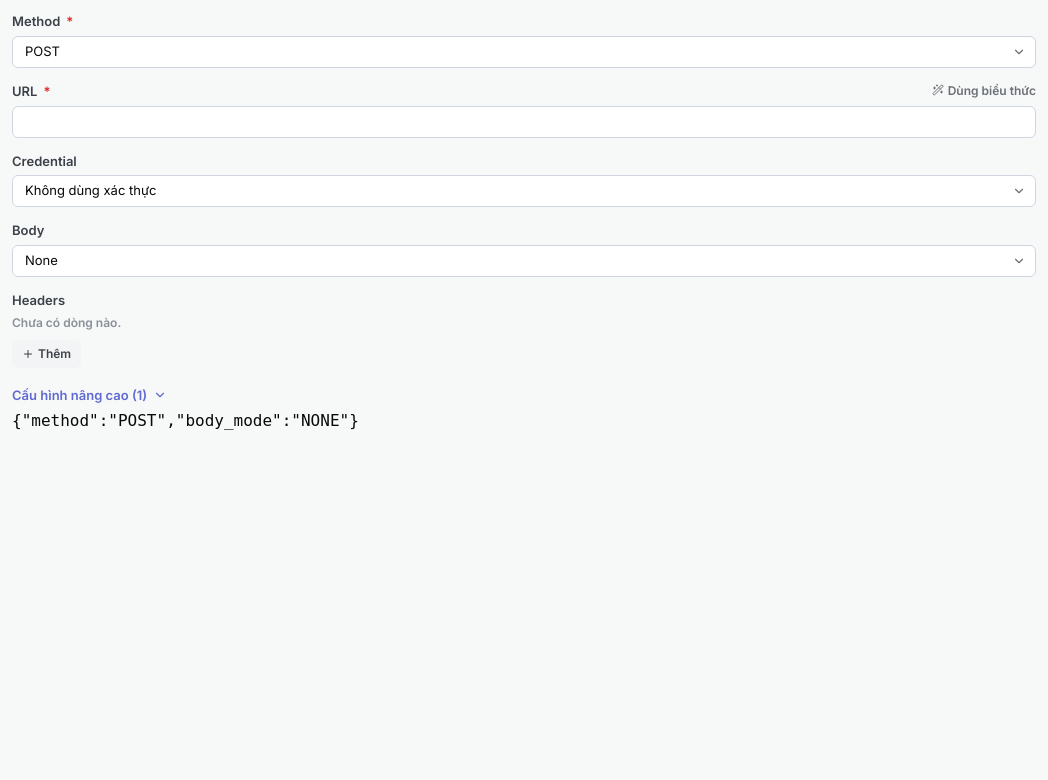
Test: conditional fields › shows it once the field it depends on changes
Select "JSON" in the dropdown labelled "Body". click: (524, 261)
box: [12, 245, 1036, 277]
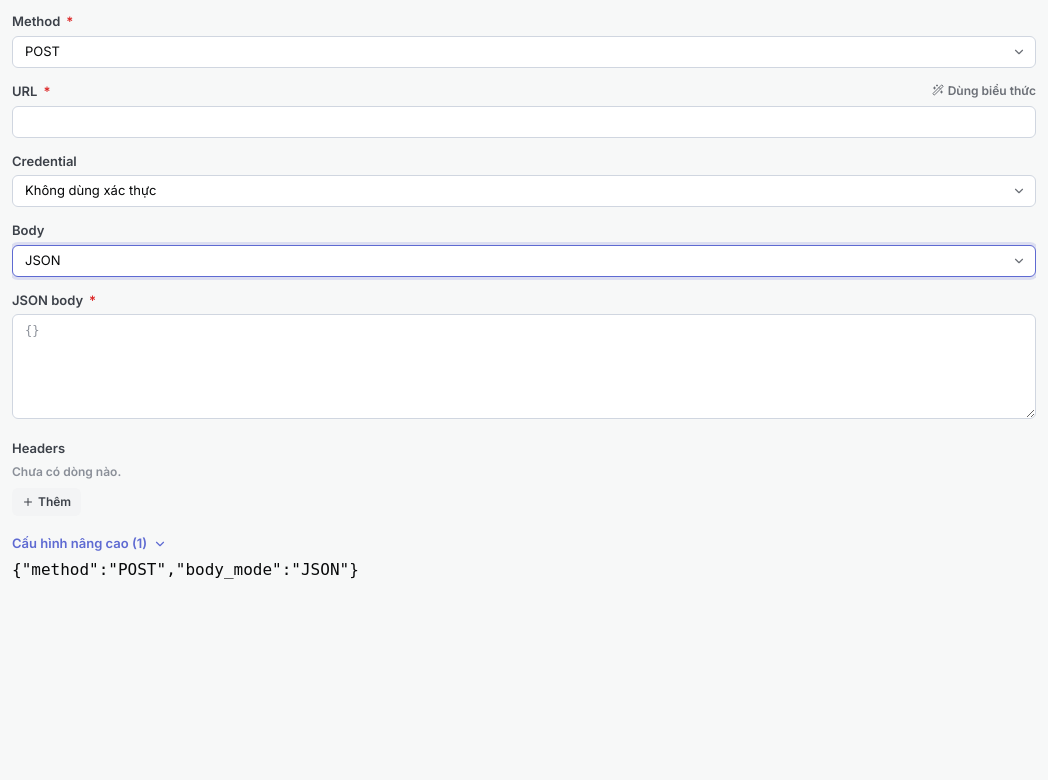
Expected: the text "JSON body" is shown, [12, 291, 83, 310]
